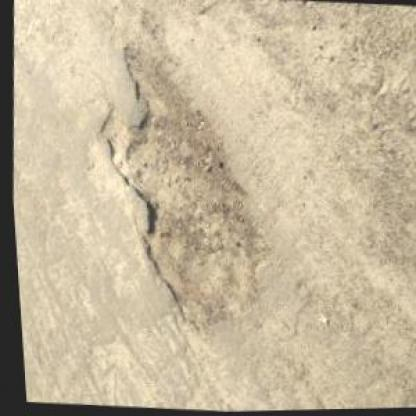pothole: (75, 38, 294, 346)
